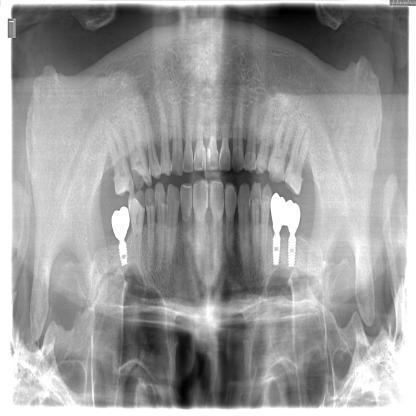Bicon: (116, 240, 130, 271), (286, 238, 299, 270), (270, 238, 283, 268)
